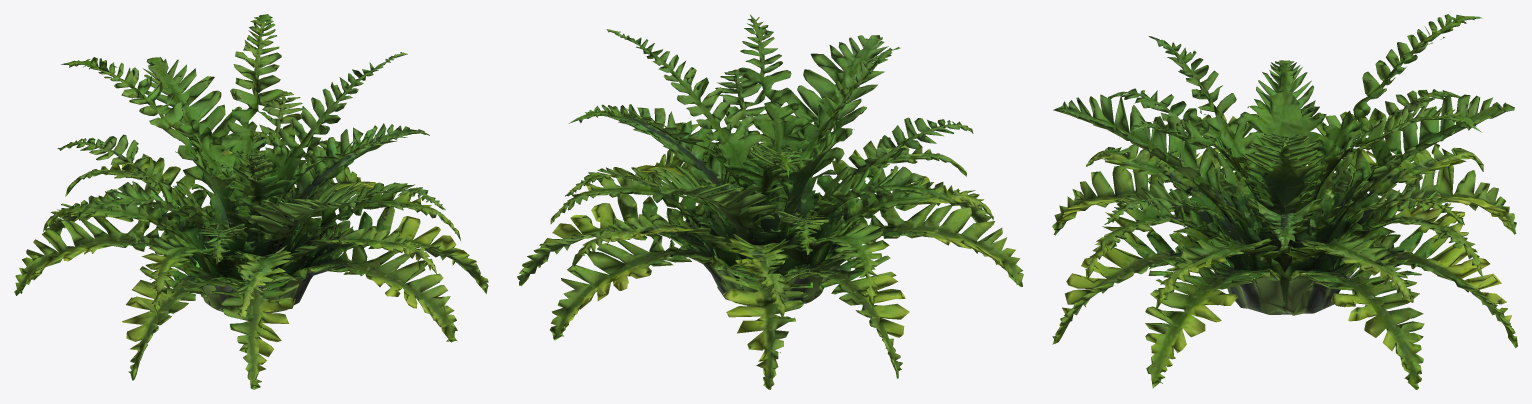
Rendered from fern.glb.
The picture shows the model from 3 angles, left to right: view 1: azimuth 30°, elevation 25°; view 2: azimuth 150°, elevation 25°; view 3: azimuth 270°, elevation 25°; orthographic projection. The views are drawn at different scales.
Bounding box in the file's own units: 1 × 0.5512 × 1.
Materials: 1 (1 with a texture image).
